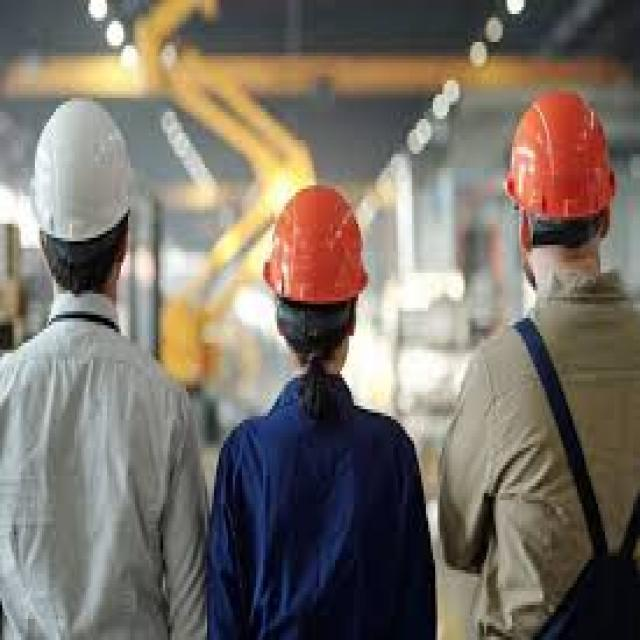safety_helmet: (21, 90, 142, 255), (495, 84, 623, 238), (253, 175, 384, 322)
